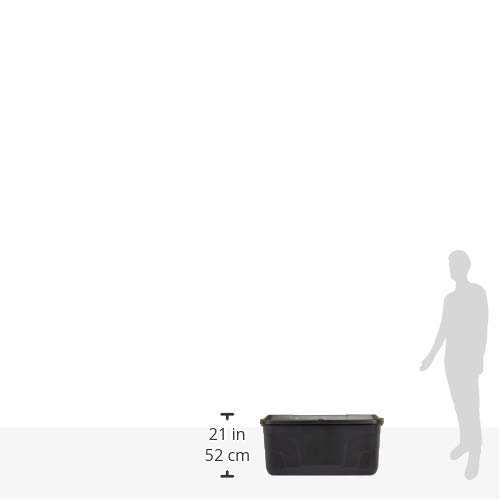21in: (209, 428, 244, 440)
52cm: (206, 449, 249, 461)
